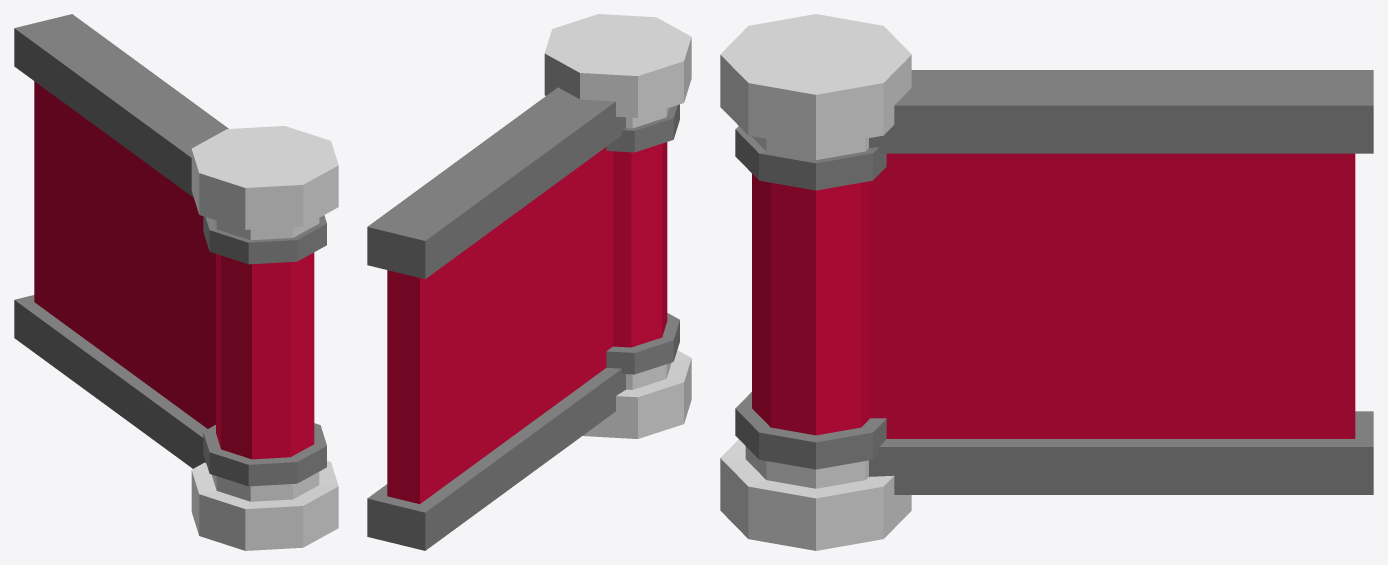
File: sutun1.fbx
The picture shows the model from 3 angles, left to right: view 1: azimuth 30°, elevation 25°; view 2: azimuth 150°, elevation 25°; view 3: azimuth 270°, elevation 25°; orthographic projection. The views are drawn at different scales.
Visible parts, largest first — view 1: duvar, autun; view 2: duvar, autun; view 3: duvar, autun.
Boxes of the visible parts, x1,y1,x2,y2 form: duvar: [14, 14, 228, 468]; autun: [191, 126, 338, 550]; duvar: [367, 87, 625, 550]; autun: [544, 14, 691, 438]; duvar: [869, 70, 1373, 494]; autun: [720, 14, 911, 550].
Size of the model in its own units: 2.75 by 7.24 by 9.39.
